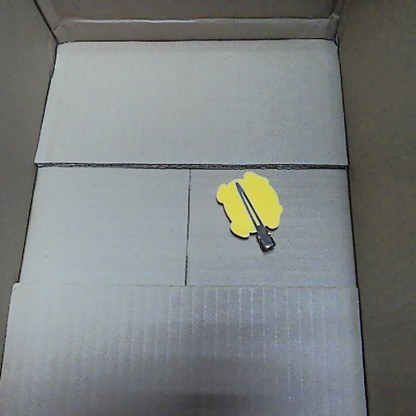dogclip: (216, 167, 284, 251)
